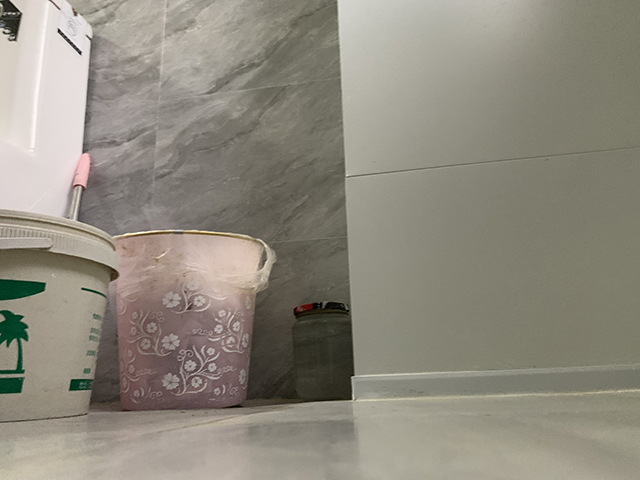trashcan: (109, 228, 267, 413)
